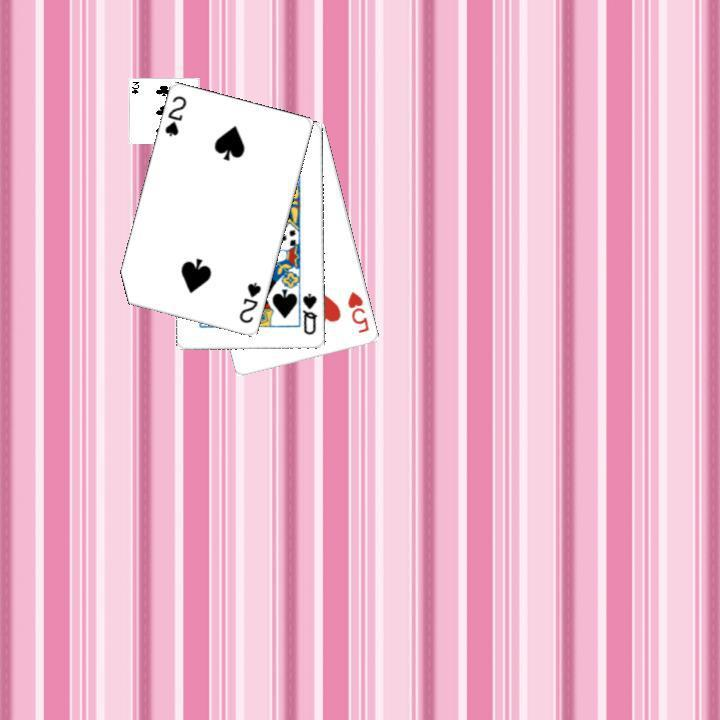2: (160, 92, 189, 139), (235, 278, 263, 326)
5: (344, 287, 371, 336)
Q: (298, 289, 319, 337)
